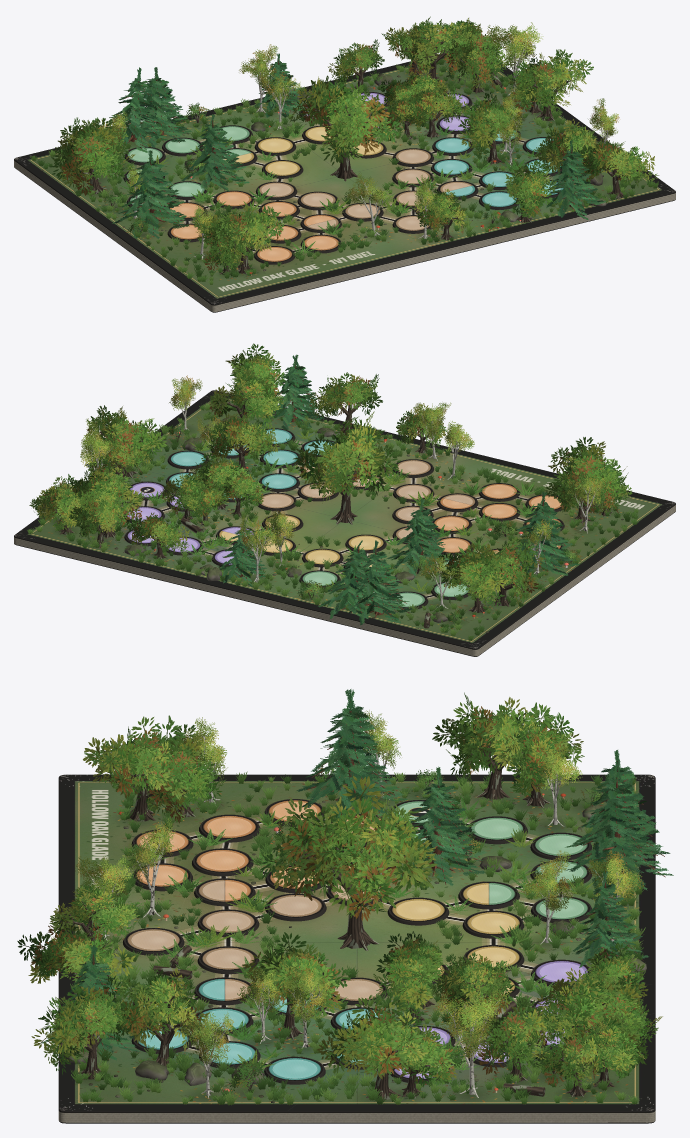
The model's file is glade.glb.
The picture shows the model from 3 angles, top to bottom: view 1: azimuth 30°, elevation 25°; view 2: azimuth 150°, elevation 25°; view 3: azimuth 270°, elevation 25°; orthographic projection. The views are drawn at different scales.
Parts seen in each view (by area): view 1: scenery (×20), board (×17); view 2: scenery (×21), board (×8); view 3: scenery (×24), board (×25).
Boxes of the visible parts, x1=… form: scenery (×20): x1=29, y1=16, x2=659, y2=284; board (×17): x1=14, y1=54, x2=675, y2=312; scenery (×21): x1=27, y1=343, x2=638, y2=640; board (×8): x1=14, y1=390, x2=675, y2=656; scenery (×24): x1=17, y1=689, x2=673, y2=1105; board (×25): x1=58, y1=774, x2=655, y2=1123.
Size of the model in its own units: 10.95 by 2.48 by 8.57.
22 materials, 19 textured.
